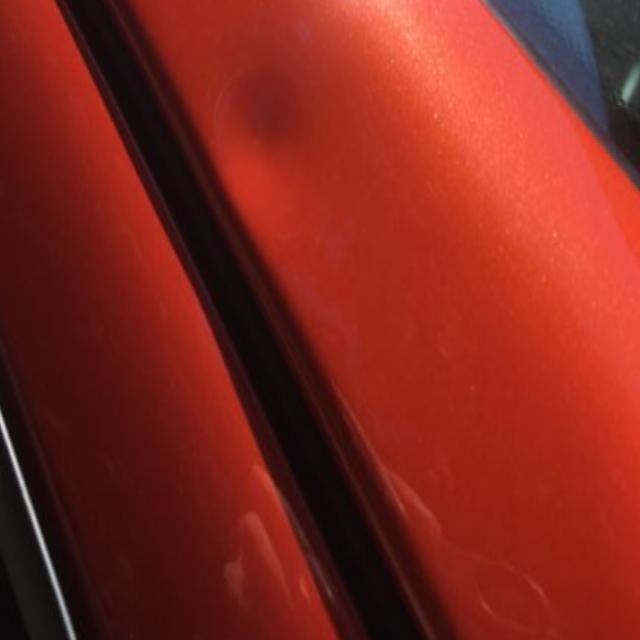dents: (222, 25, 340, 232)
